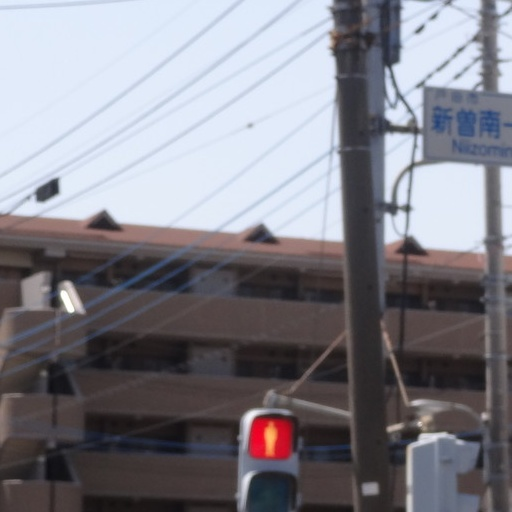Pedestrian_Signal_Red: (237, 398, 304, 507)
